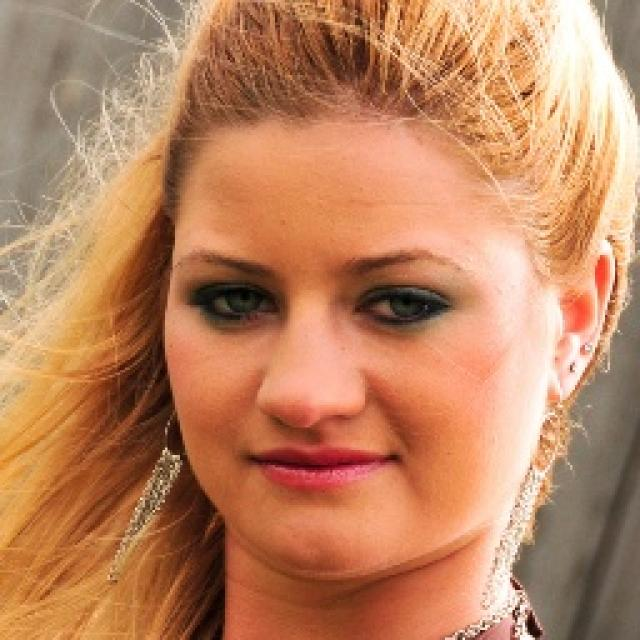earlobe: (548, 239, 616, 402)
